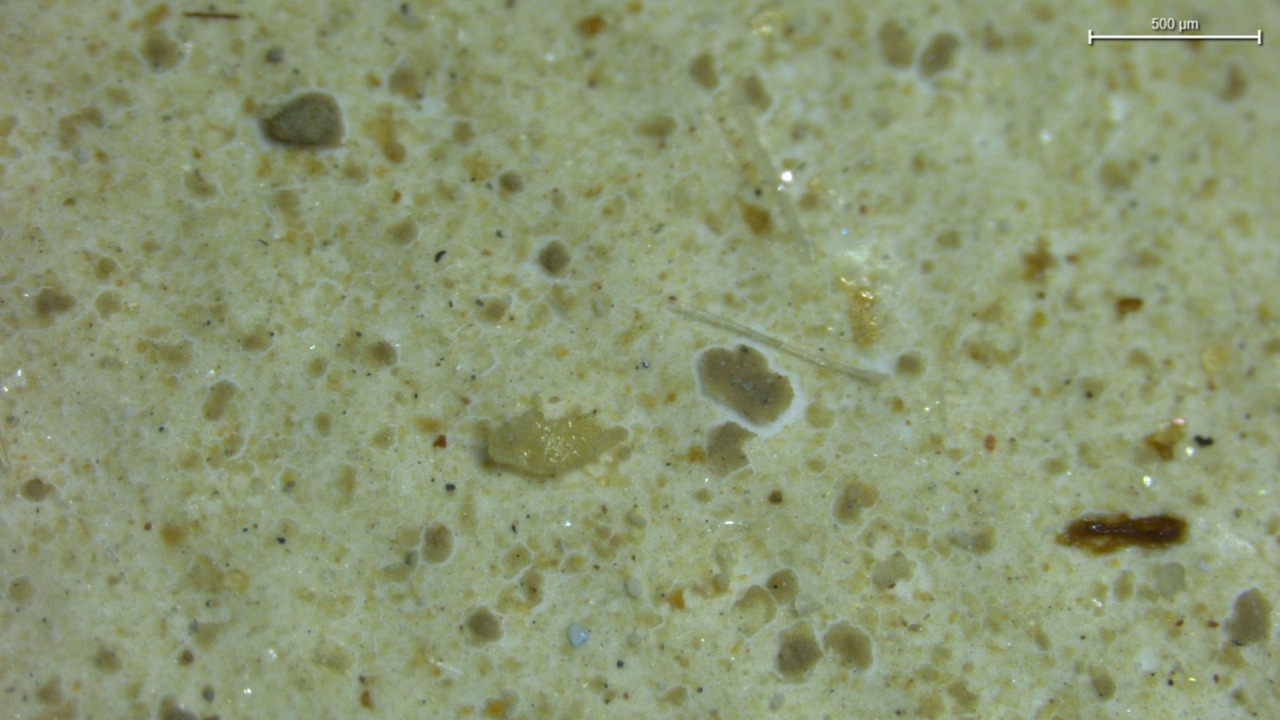microplastic_fragment: (488, 409, 626, 475), (567, 624, 589, 649), (625, 577, 643, 598)
